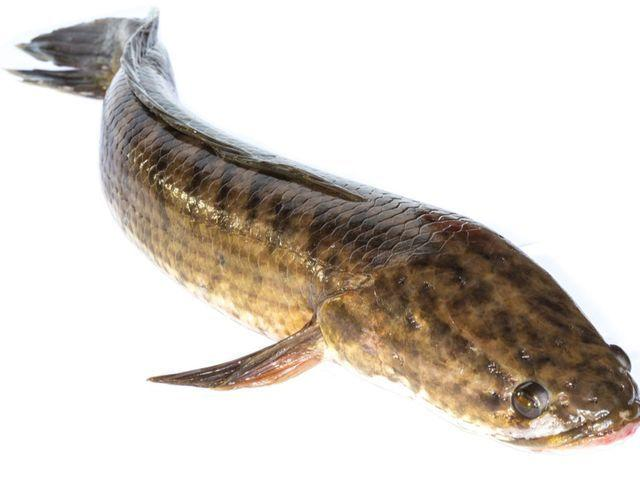Mudfish: (9, 13, 640, 460)
